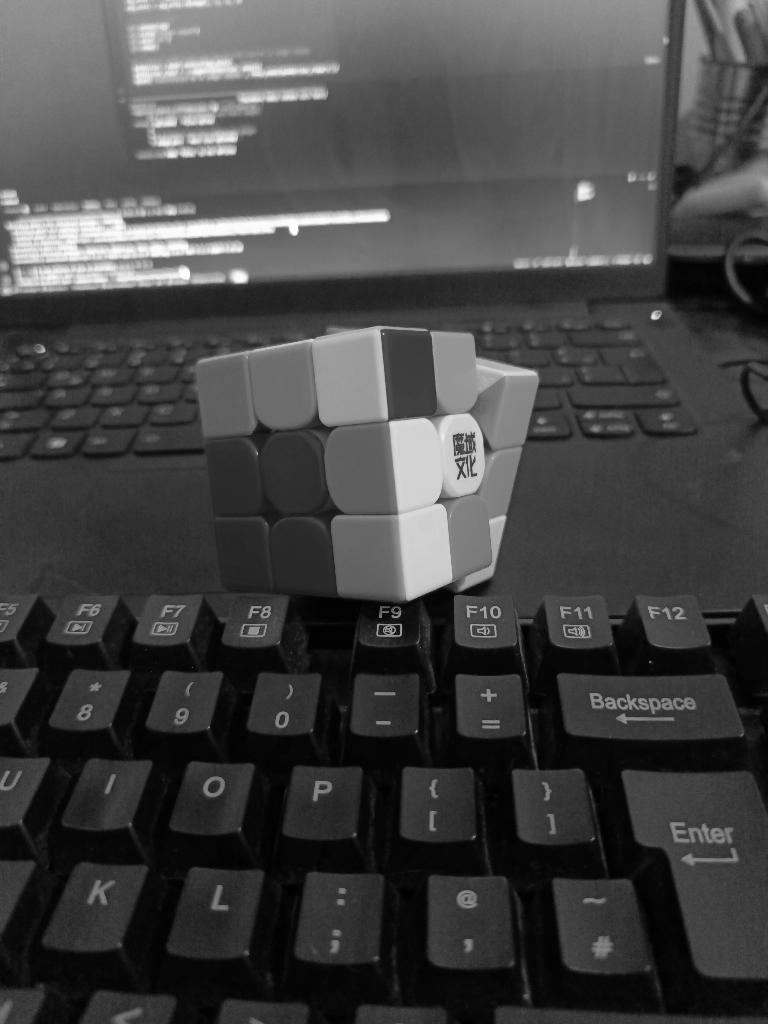rubik: (192, 324, 540, 602)
